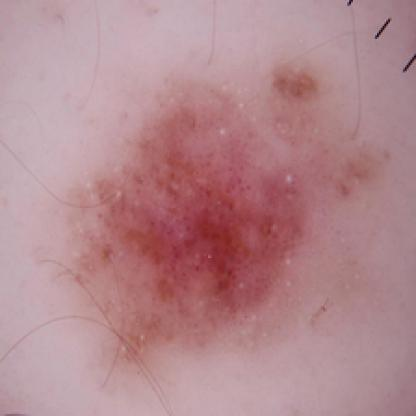benign: (93, 98, 288, 332)
